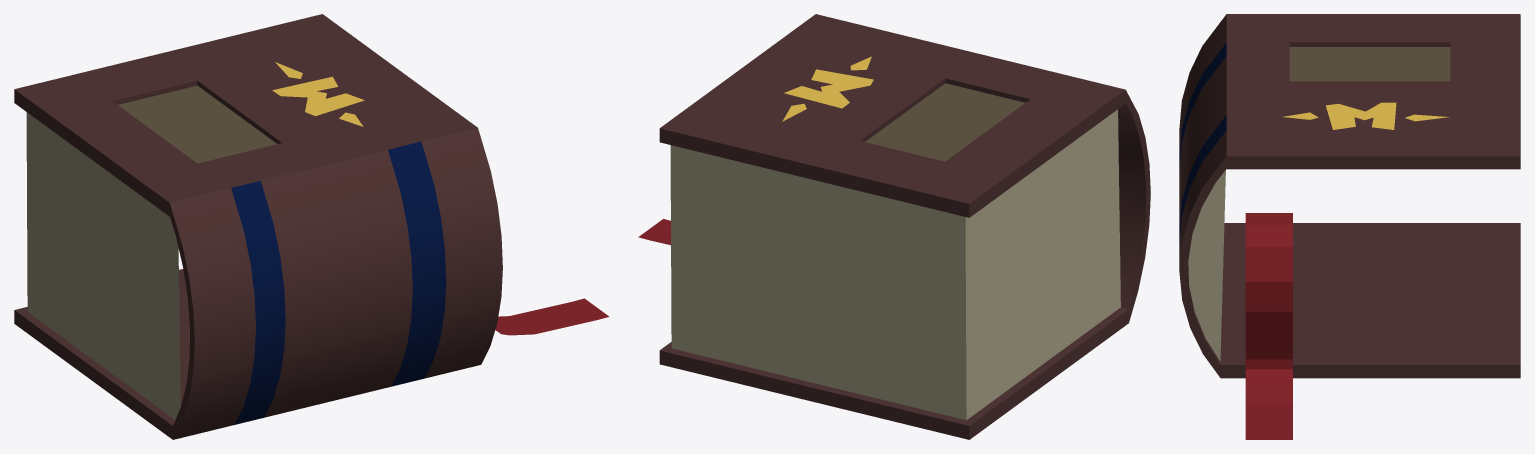
File: Magic book.glb
The picture shows the model from 3 angles, left to right: view 1: azimuth 30°, elevation 25°; view 2: azimuth 150°, elevation 25°; view 3: azimuth 270°, elevation 25°; orthographic projection. The views are drawn at different scales.
Parts seen in each view (by area): view 1: Cube, Plane; view 2: Cube, Plane; view 3: Cube, Plane.
Part boxes in pixels (box(x1,y1,x2,y2)): Cube: box(14, 14, 502, 439); Plane: box(495, 298, 609, 335); Cube: box(659, 14, 1150, 439); Plane: box(638, 219, 670, 245); Cube: box(1179, 14, 1520, 378); Plane: box(1245, 213, 1292, 439).
Bounding box in the file's own units: 3.27 × 1.63 × 2.27.
